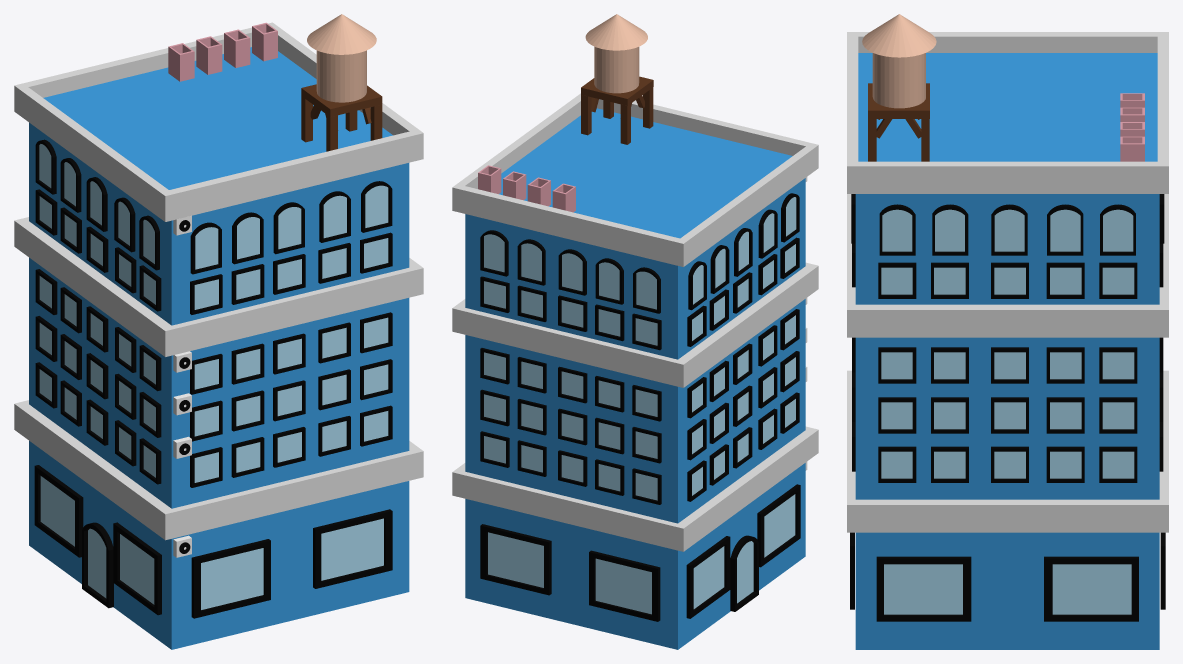
The model's file is House3.fbx.
The picture shows the model from 3 angles, left to right: view 1: azimuth 30°, elevation 25°; view 2: azimuth 150°, elevation 25°; view 3: azimuth 270°, elevation 25°; orthographic projection. The views are drawn at different scales.
Parts seen in each view (by area): view 1: Cube.130, Cube.133, Cube.132, Cube.131, Cube.137, Cube.135, Cube.143, Cube.160, Cylinder.013, Cube.136, Cube.158, Cube.161 (+33 smaller); view 2: Cube.130, Cube.133, Cube.131, Cube.132, Cube.137, Cube.135, Cube.160, Cube.143, Cylinder.013, Cube.136, Cube.144, Cube.142 (+33 smaller); view 3: Cube.130, Cube.133, Cube.135, Cube.131, Cube.132, Cube.148, Cube.140, Cube.138, Cube.141, Cube.134, Cube.139, Cube.150 (+15 smaller).
Boxes of the visible parts, x1,y1,x2,y2 form: Cube.130: (29,47,409,649); Cube.133: (14,22,423,221); Cube.132: (14,217,423,356); Cube.131: (14,400,423,540); Cube.137: (191,509,392,618); Cube.135: (34,465,161,615); Cube.143: (190,181,392,274); Cube.160: (232,191,350,264); Cylinder.013: (316,50,366,102); Cube.136: (82,522,113,608); Cube.158: (231,322,350,384); Cube.161: (231,369,350,431); Cube.130: (465,108,805,649); Cube.133: (452,93,818,266); Cube.131: (452,426,818,551); Cube.132: (452,262,818,387); Cube.137: (480,524,660,621); Cube.135: (686,484,800,618); Cube.160: (517,239,623,304); Cube.143: (480,230,660,313); Cylinder.013: (594,46,639,93); Cube.136: (730,535,758,611); Cube.144: (480,276,661,350); Cube.142: (480,389,661,463); Cube.130: (855,53,1159,649); Cube.133: (847,32,1168,193); Cube.135: (876,556,1138,621); Cube.131: (847,370,1168,532); Cube.132: (847,194,1168,337); Cube.148: (932,204,1083,255); Cube.140: (879,204,1135,255); Cube.138: (878,347,1137,383); Cube.141: (878,397,1137,433); Cube.134: (878,446,1137,482); Cube.139: (878,262,1137,298); Cube.150: (931,347,1084,383).
Bounding box in the file's own units: 1672 × 3551 × 1694.
